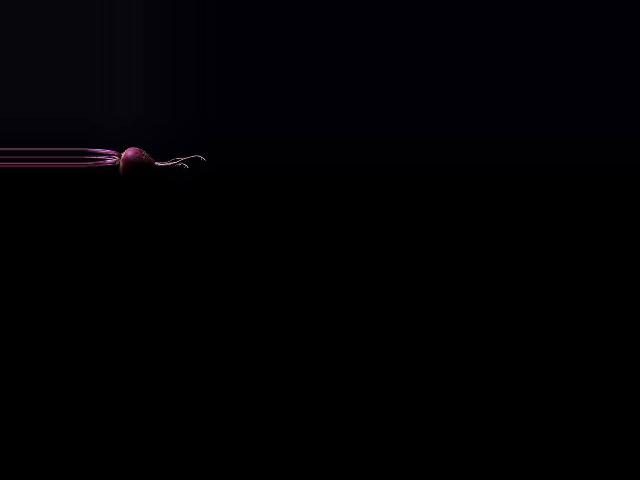beet: (83, 145, 205, 179)
